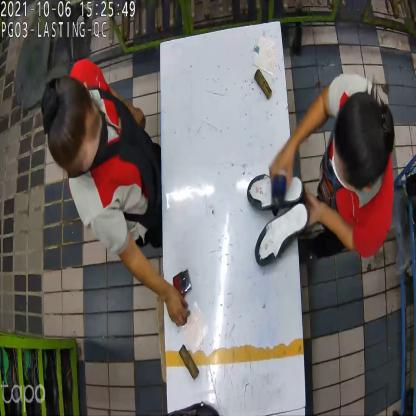shoes: (247, 167, 307, 264)
stamp: (268, 174, 289, 210), (173, 270, 192, 303)
